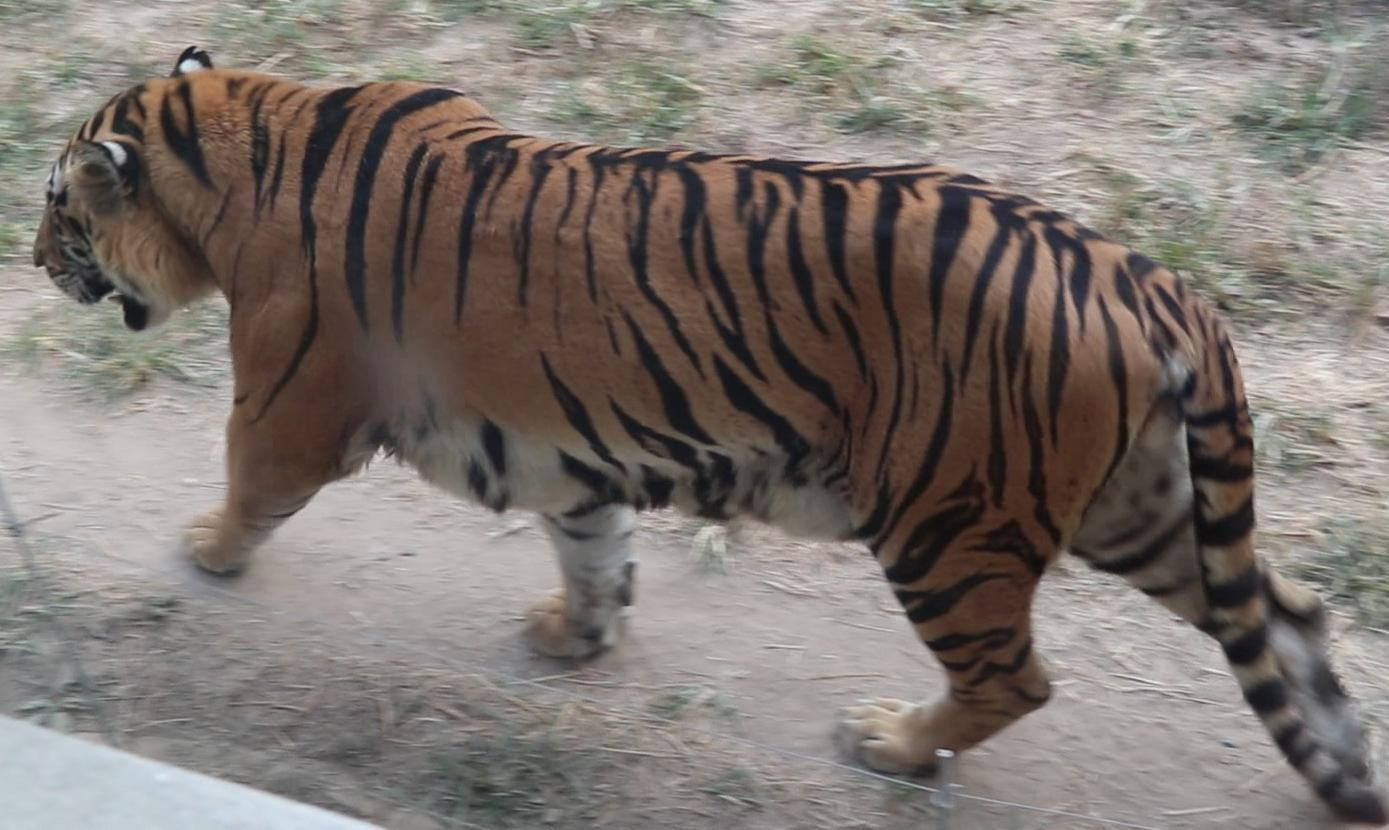tiger: (33, 48, 1388, 824)
